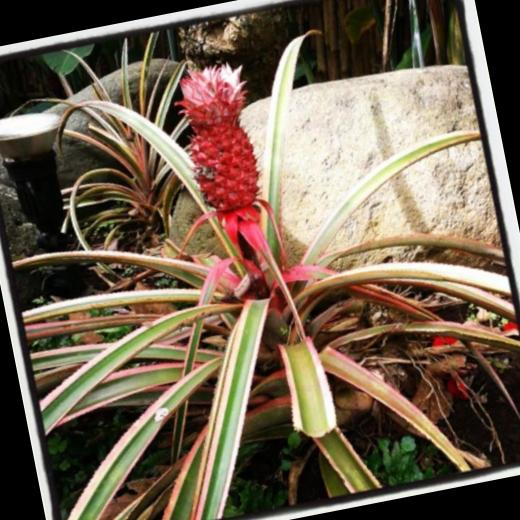Mango: (168, 57, 273, 219)
